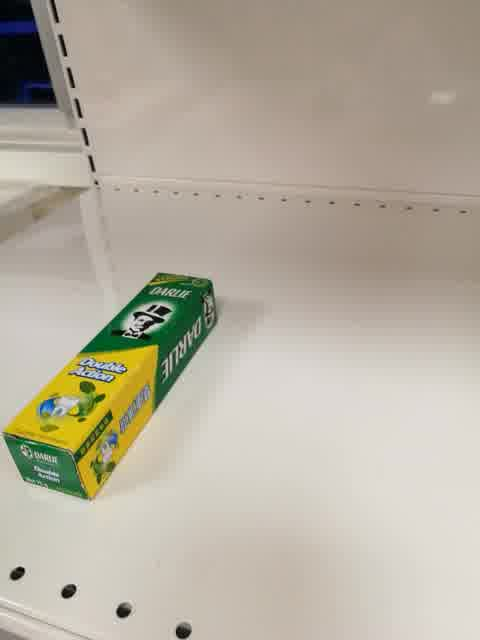toothpaste: (2, 272, 218, 501)
